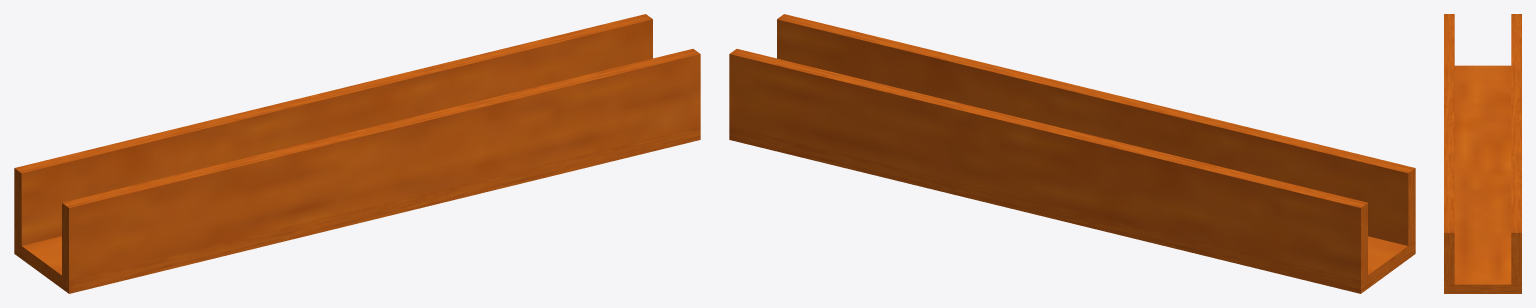
File: Gutter.fbx
3 renders of one model, left to right at view 1: azimuth 30°, elevation 25°; view 2: azimuth 150°, elevation 25°; view 3: azimuth 270°, elevation 25°, orthographic. The views are drawn at different scales.
Parts seen in each view (by area): view 1: Gutter; view 2: Gutter; view 3: Gutter.
Boxes of the visible parts, left/top/right/bottom form: Gutter: left=14, top=14, right=700, bottom=293; Gutter: left=729, top=14, right=1415, bottom=293; Gutter: left=1444, top=14, right=1521, bottom=293.
Bounding box in the file's own units: 1 × 0.13 × 0.15.
